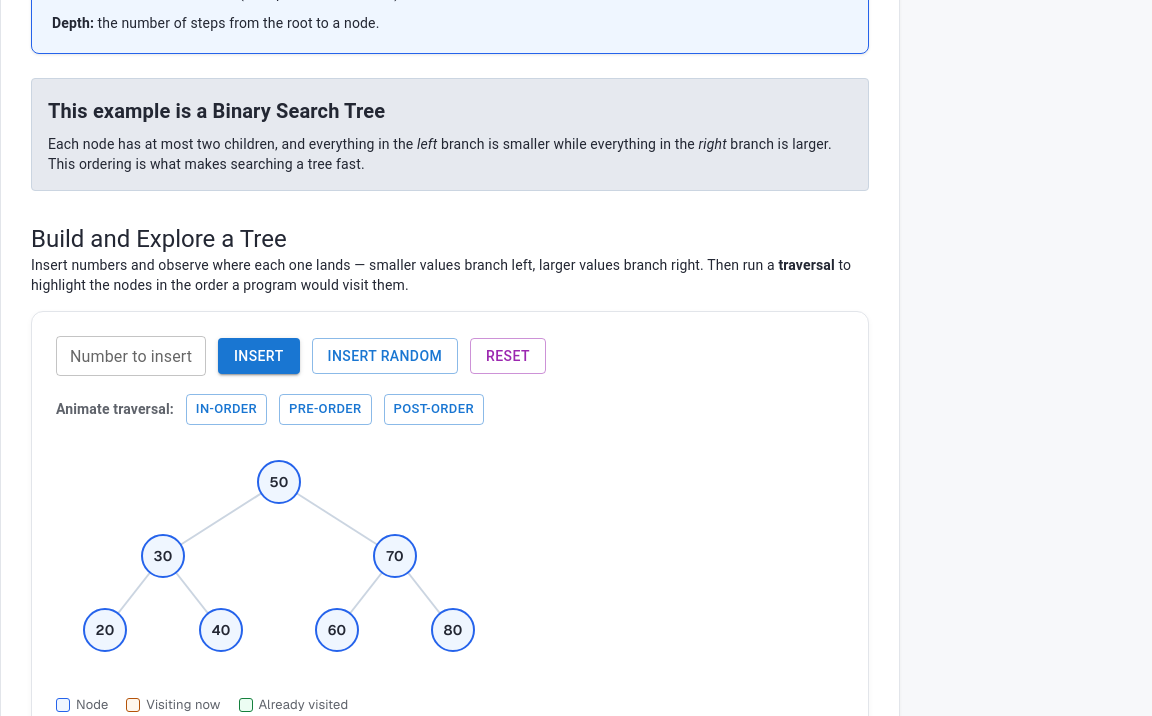
Test case: TreeConcept › inserts a new value as a node
(page scrolled)
Type "25" into the number field at x=131, y=356, box left=56, top=336, right=206, bottom=376
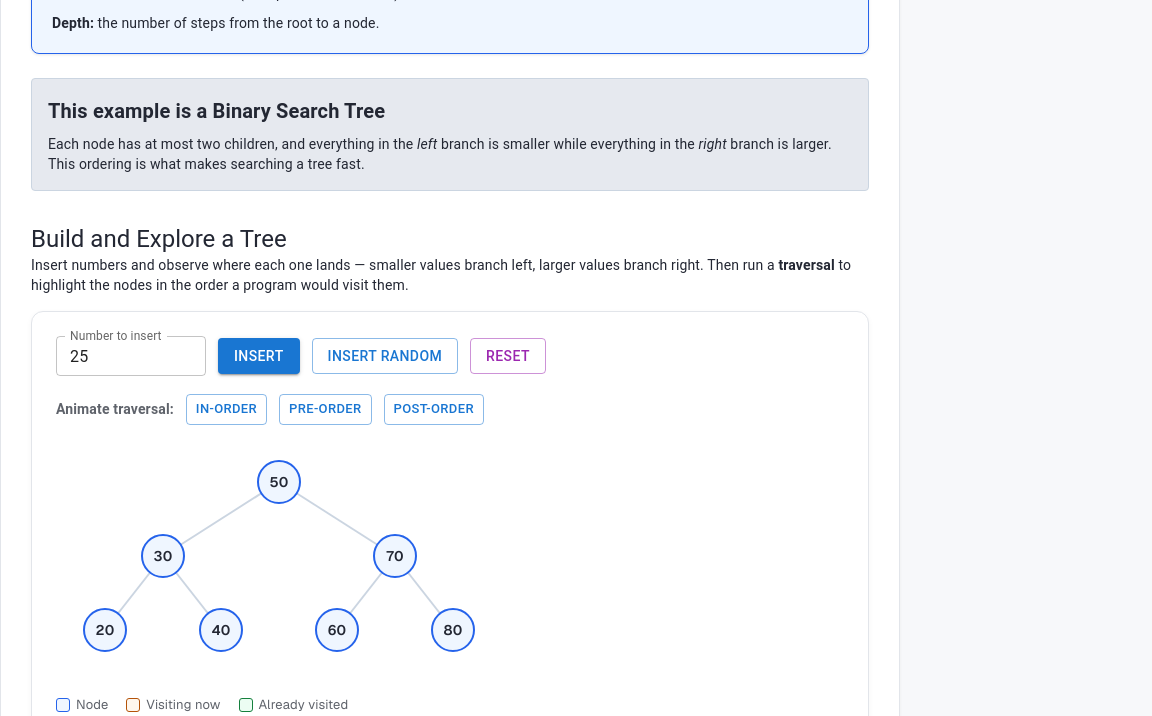
Click the button "Insert" at x=259, y=356, box left=218, top=338, right=300, bottom=374
(page scrolled)
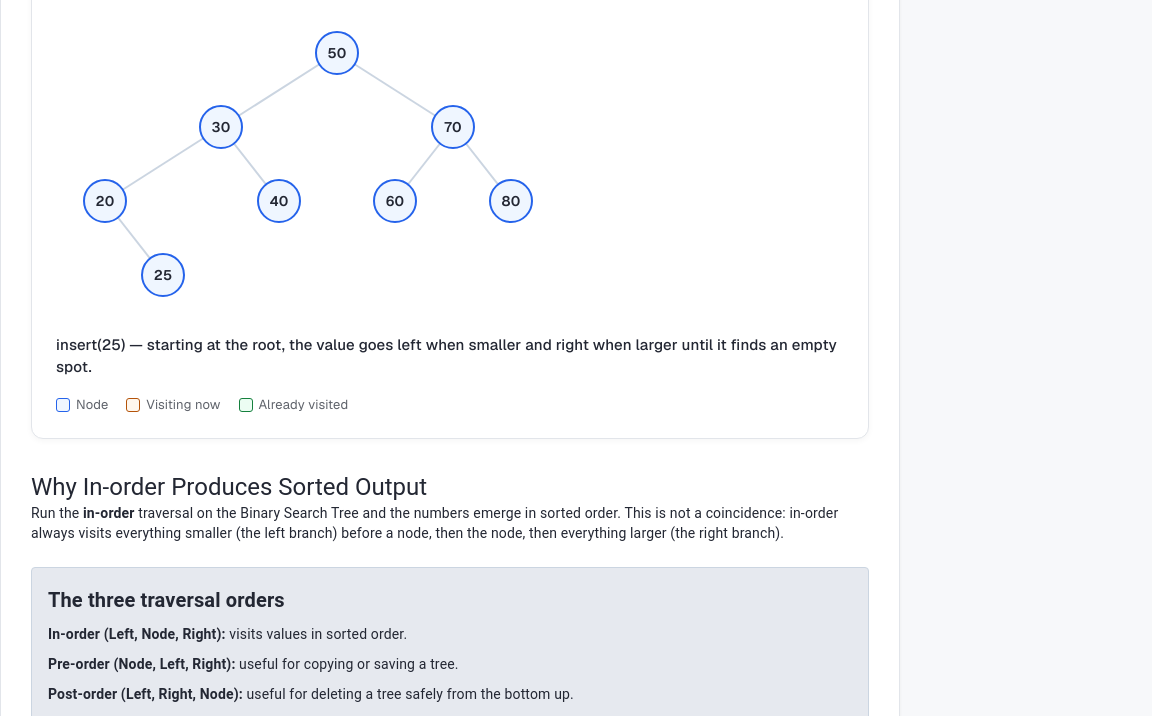
Expected: the text "25" is shown, left=154, top=266, right=172, bottom=284
Expected: the text "insert(25)" is shown, left=56, top=335, right=837, bottom=376
